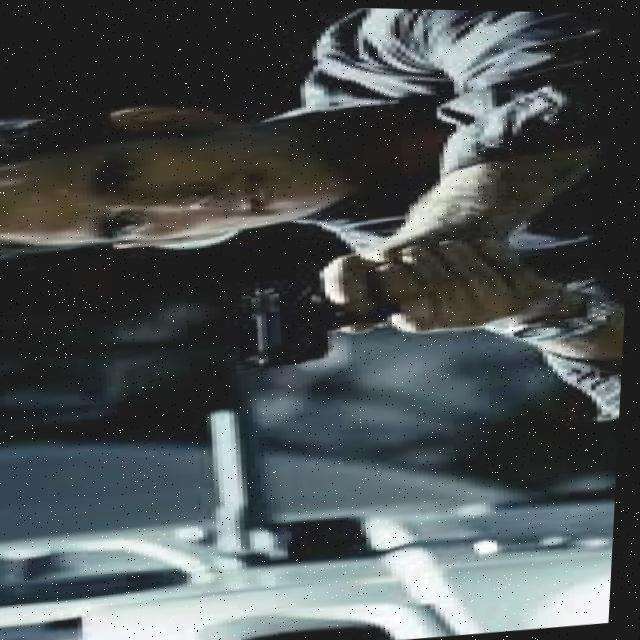pistol: (240, 273, 383, 369)
